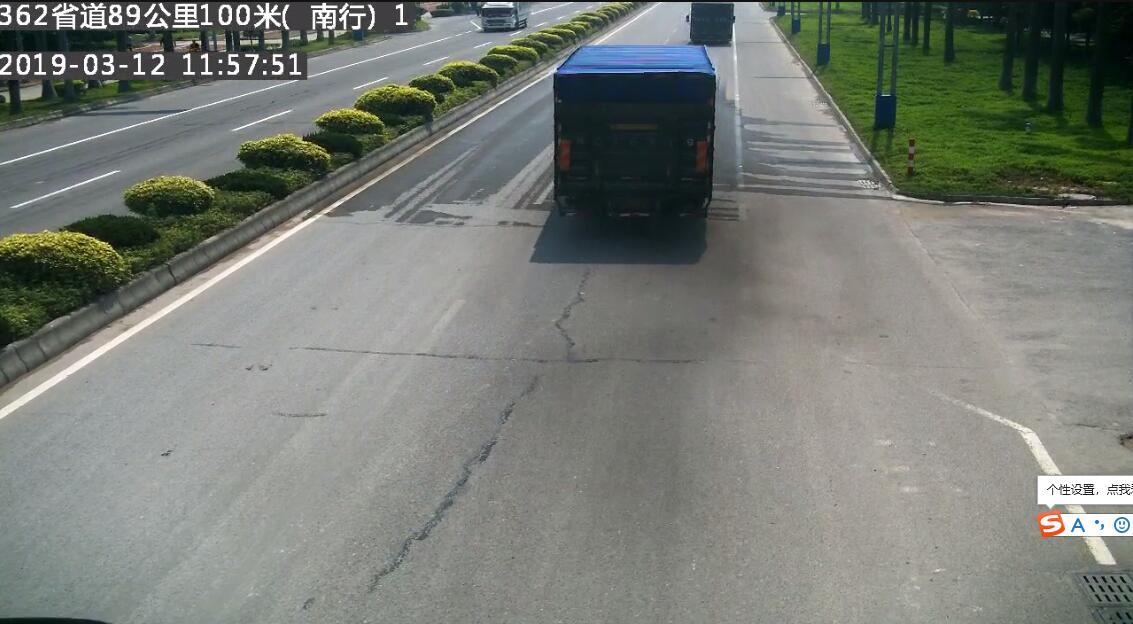yanwu: (659, 183, 763, 279)
